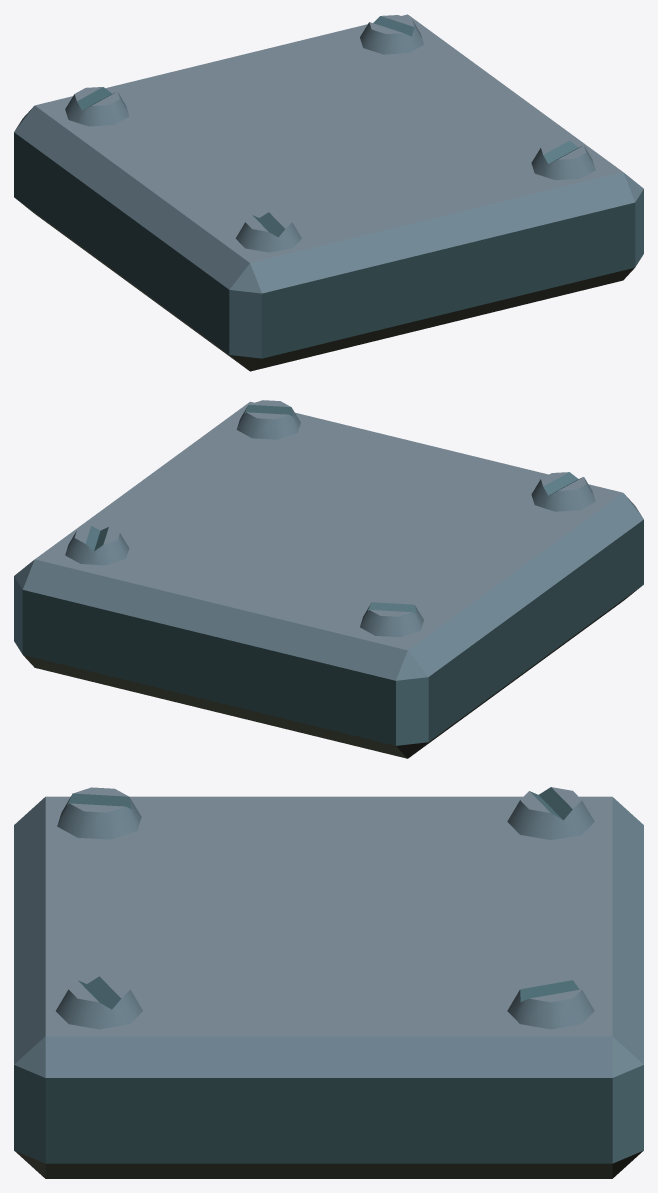
File: m_kub_metal_flatPlate.FBX
3 renders of one model, top to bottom at view 1: azimuth 30°, elevation 25°; view 2: azimuth 150°, elevation 25°; view 3: azimuth 270°, elevation 25°, orthographic. The views are drawn at different scales.
Parts seen in each view (by area): view 1: m_kub_metal_flatPlate; view 2: m_kub_metal_flatPlate; view 3: m_kub_metal_flatPlate.
Boxes of the visible parts, x1,y1,x2,y2 form: m_kub_metal_flatPlate: (14, 14, 643, 371); m_kub_metal_flatPlate: (14, 400, 643, 758); m_kub_metal_flatPlate: (14, 787, 643, 1178).
Size of the model in its own units: 2 by 0.5761 by 2.
